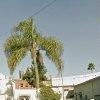Tree: (5, 11, 78, 100)
